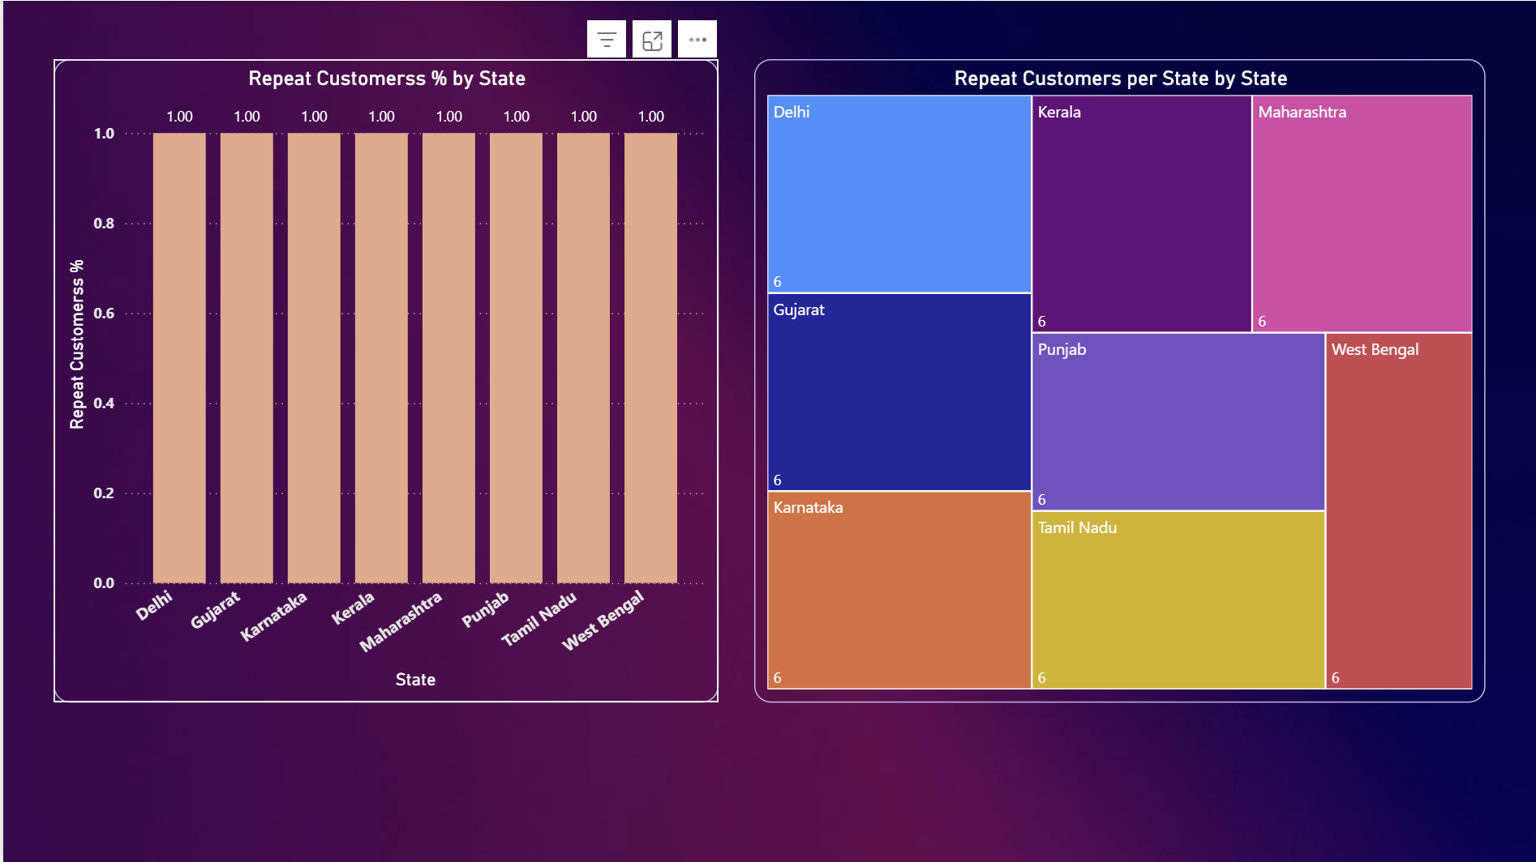

What the dashboard file says about the page in this screenshot:
{"tool":"powerbi","page":{"name":"Page 3","canvas":[1280,720],"ordinal":2},"visuals":[{"type":"treemap","fields":{"Values":["Copy of SuperStore_India_Formatted(1).Repeat Customers per State"],"Group":["Copy of SuperStore_India_Formatted(1).State"]},"box":[625.4,48.6,609.2,536.3],"z":2000},{"type":"clusteredColumnChart","fields":{"Category":["Copy of SuperStore_India_Formatted(1).State"],"Y":["Copy of SuperStore_India_Formatted(1).Repeat Customerss %"]},"box":[41.9,48.6,553.8,536.3],"z":3000}]}

Visuals, with their boxes in screenshot pixels (x1, y1, x2, y2), scaled from the page's 1280x720 canvas onto the 1536x862 screenshot:
treemap - Copy of SuperStore_India_Formatted(1).Repeat Customers per State x Copy of SuperStore_India_Formatted(1).State: region(750, 58, 1482, 700)
clusteredColumnChart - Copy of SuperStore_India_Formatted(1).State x Copy of SuperStore_India_Formatted(1).Repeat Customerss %: region(50, 58, 715, 700)
